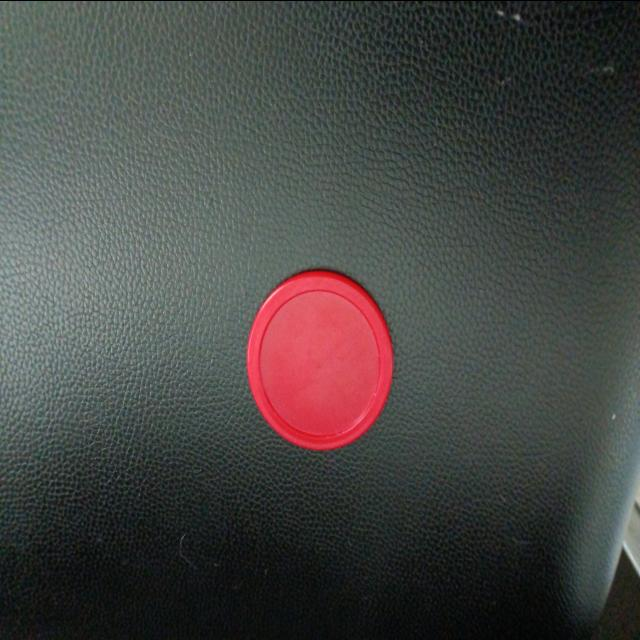chip: (244, 266, 396, 454)
